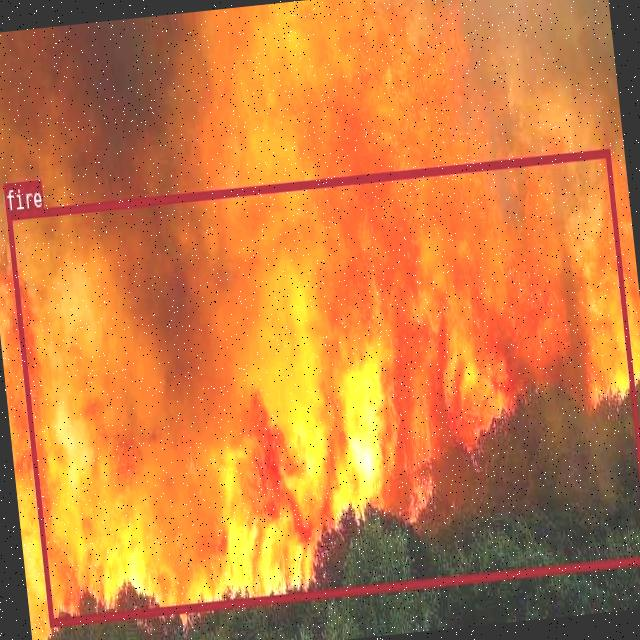fire: (5, 147, 640, 624)
